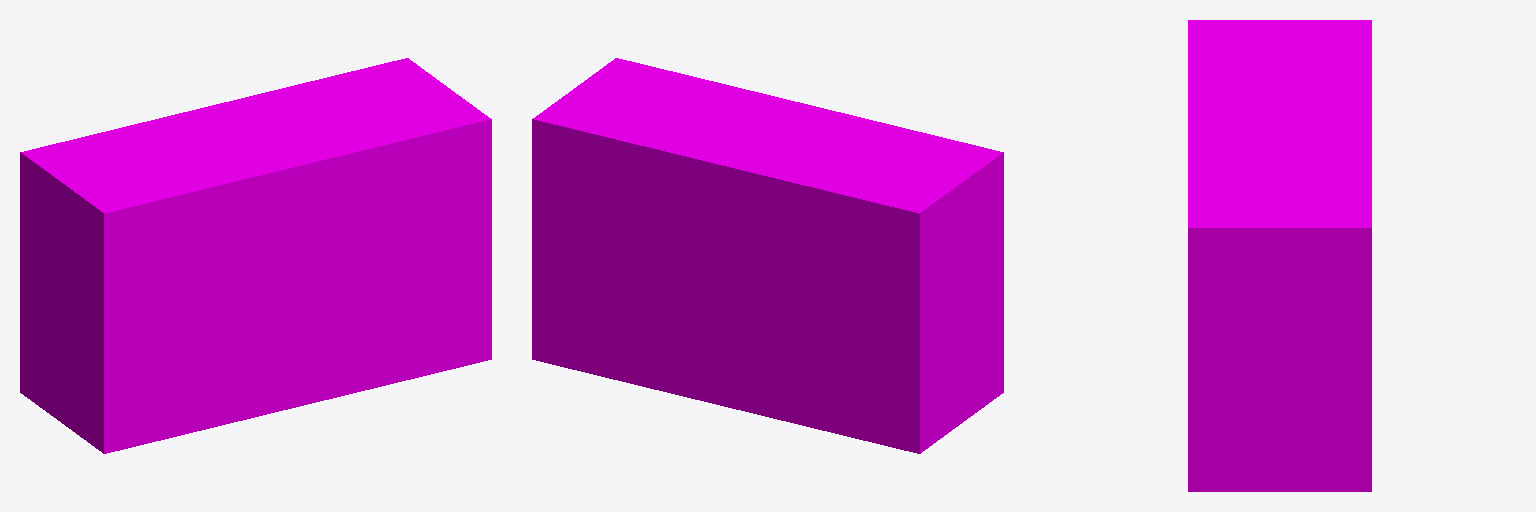
The robot description file, URDF, robot "box.urdf":
<?xml version="0.0" ?>
<robot name="box.urdf">
  <link name="baseLink">
    <contact>
      <lateral_friction value="0.5"/>
      <rolling_friction value="0.0"/>
      <contact_cfm value="0.0"/>
      <contact_erp value="1.0"/>
    </contact>
    <inertial>
      <origin rpy="0 0 0" xyz="0 0 0"/>
       <mass value=".01"/>
       <inertia ixx="1" ixy="0" ixz="0" iyy="1" iyz="0" izz="1"/>
    </inertial>
    <visual>
      <origin rpy="0 0 0" xyz="0 0 0"/>
      <geometry>
				<mesh filename="box.obj" scale="0.16 0.06 0.095"/>
      </geometry>
       <material name="white">
        <color rgba="1 0 1 1"/>
      </material>
    </visual>
    <collision>
      <origin rpy="0 0 0" xyz="0 0 0"/>
      <geometry>
	 	<box size="0.16 0.06 0.095"/>
      </geometry>
    </collision>
  </link>
</robot>

--- Render facts (derived) ---
Views: 3 orthographic renders of the robot side by side, from view 1: azimuth 30°, elevation 25°; view 2: azimuth 150°, elevation 25°; view 3: azimuth 270°, elevation 25°.
Robot: box.urdf — 1 links, 0 joints (none); root link baseLink; default pose: every joint at zero.
Links seen in each view (by area): view 1: baseLink; view 2: baseLink; view 3: baseLink.
Boxes of the visible links, left/top/right/bottom form: baseLink: left=20, top=58, right=491, bottom=453; baseLink: left=532, top=58, right=1003, bottom=453; baseLink: left=1188, top=20, right=1371, bottom=491.
Bounding box of the posed robot: 0.16 × 0.06 × 0.095 m (x, y, z).
Meshes: 1 distinct files referenced, 1 mesh visuals loaded (1 OBJ).